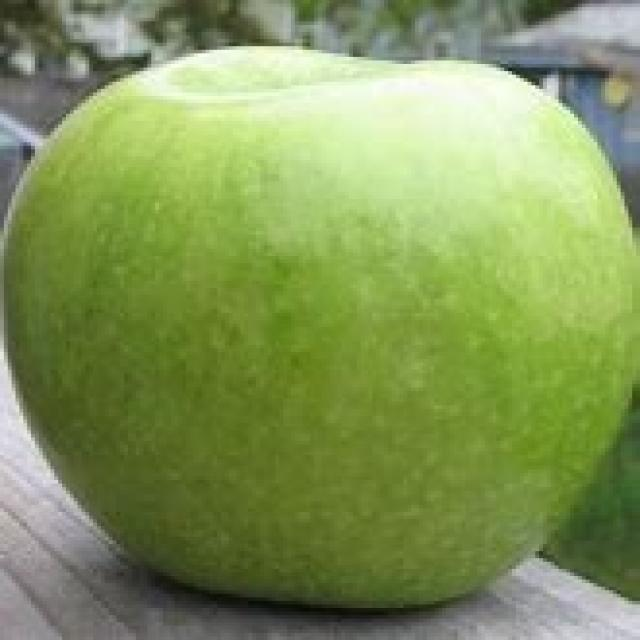apple: (4, 29, 640, 614)
